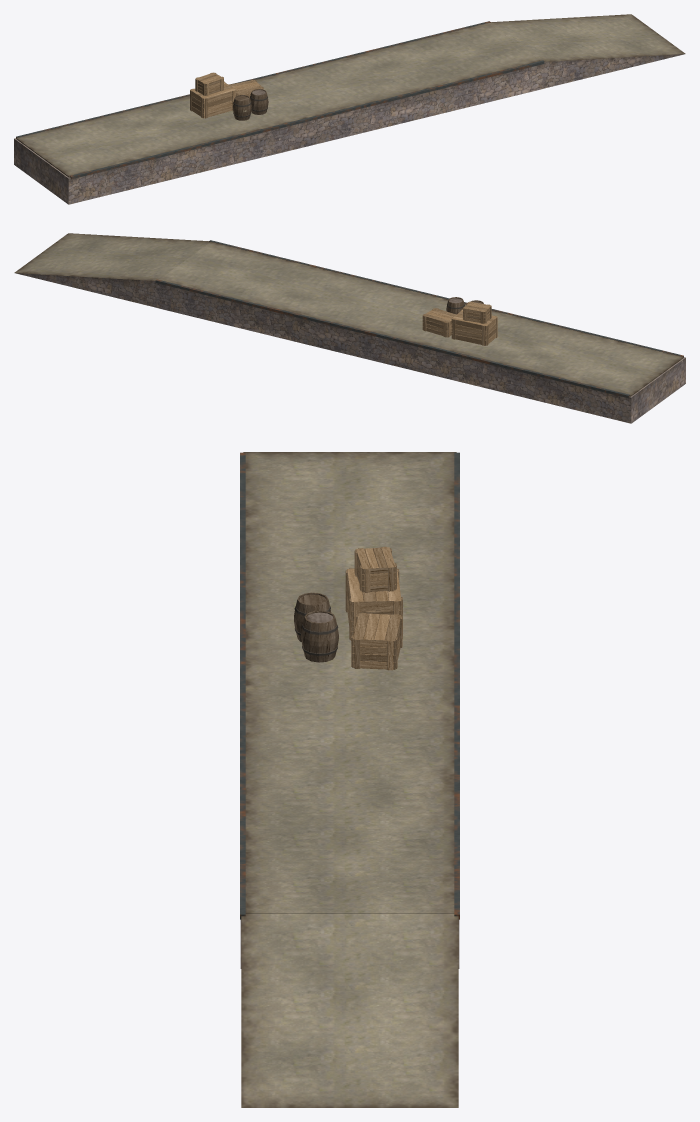
Rendered from cargo_platform.gltf.
3 renders of one model, top to bottom at view 1: azimuth 30°, elevation 25°; view 2: azimuth 150°, elevation 25°; view 3: azimuth 270°, elevation 25°, orthographic. The views are drawn at different scales.
Parts seen in each view (by area): view 1: Cargo Platform; view 2: Cargo Platform; view 3: Cargo Platform.
Part boxes in pixels (<box>): Cargo Platform: <box>14,14,685,204</box>; Cargo Platform: <box>14,233,685,423</box>; Cargo Platform: <box>240,452,459,1107</box>.
Bounding box in the file's own units: 26 × 2.37 × 4.01.
Materials: 1 (1 with a texture image).
